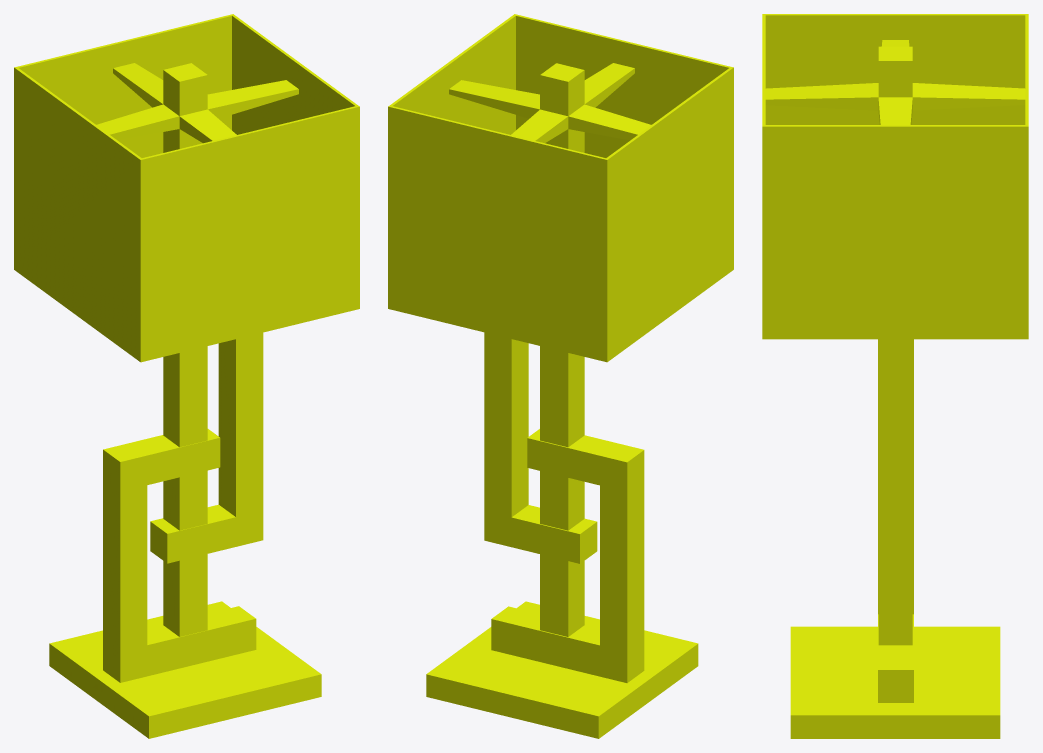
Rendered from Lamp1.FBX.
3 views of the same model, side by side, from view 1: azimuth 30°, elevation 25°; view 2: azimuth 150°, elevation 25°; view 3: azimuth 270°, elevation 25° (orthographic). The views are drawn at different scales.
Visible parts, largest first — view 1: Box007; view 2: Box007; view 3: Box007.
Boxes of the visible parts, x1=… form: Box007: x1=14, y1=14, x2=359, y2=738; Box007: x1=388, y1=14, x2=733, y2=738; Box007: x1=762, y1=14, x2=1028, y2=738.
Bounding box in the file's own units: 0.3477 × 0.9231 × 0.3477.
